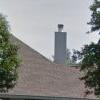Chimney: (48, 18, 72, 72)
